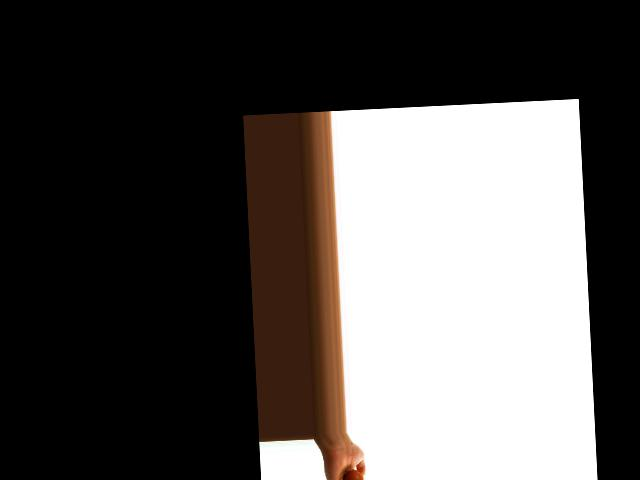egg: (343, 469, 364, 480)
